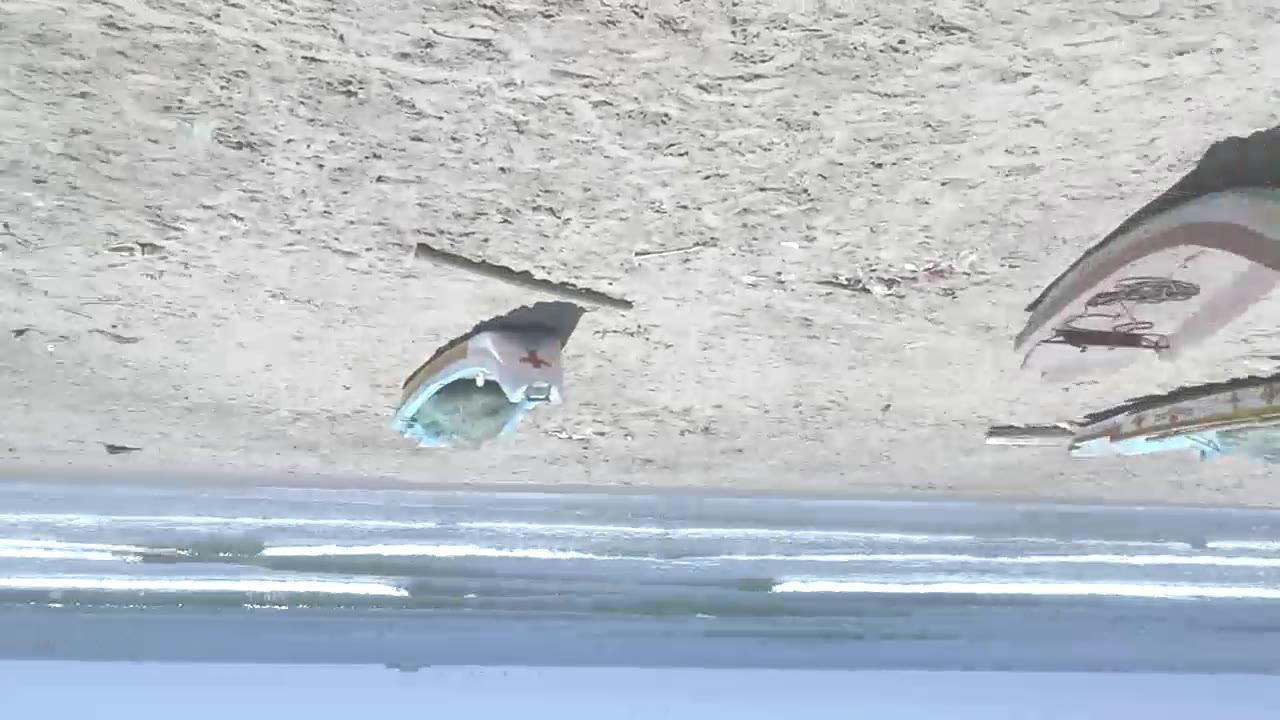large collection of objects: (1004, 143, 1279, 395), (386, 322, 572, 456), (1069, 376, 1276, 464)
obj: (412, 246, 632, 315), (808, 256, 976, 296), (980, 424, 1094, 448)
sand/background: (1, 473, 1279, 719)
